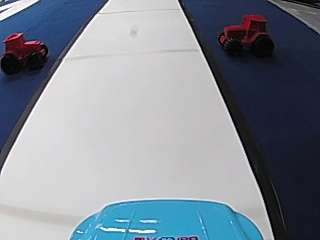tractor: (216, 12, 273, 58), (0, 30, 47, 73)
